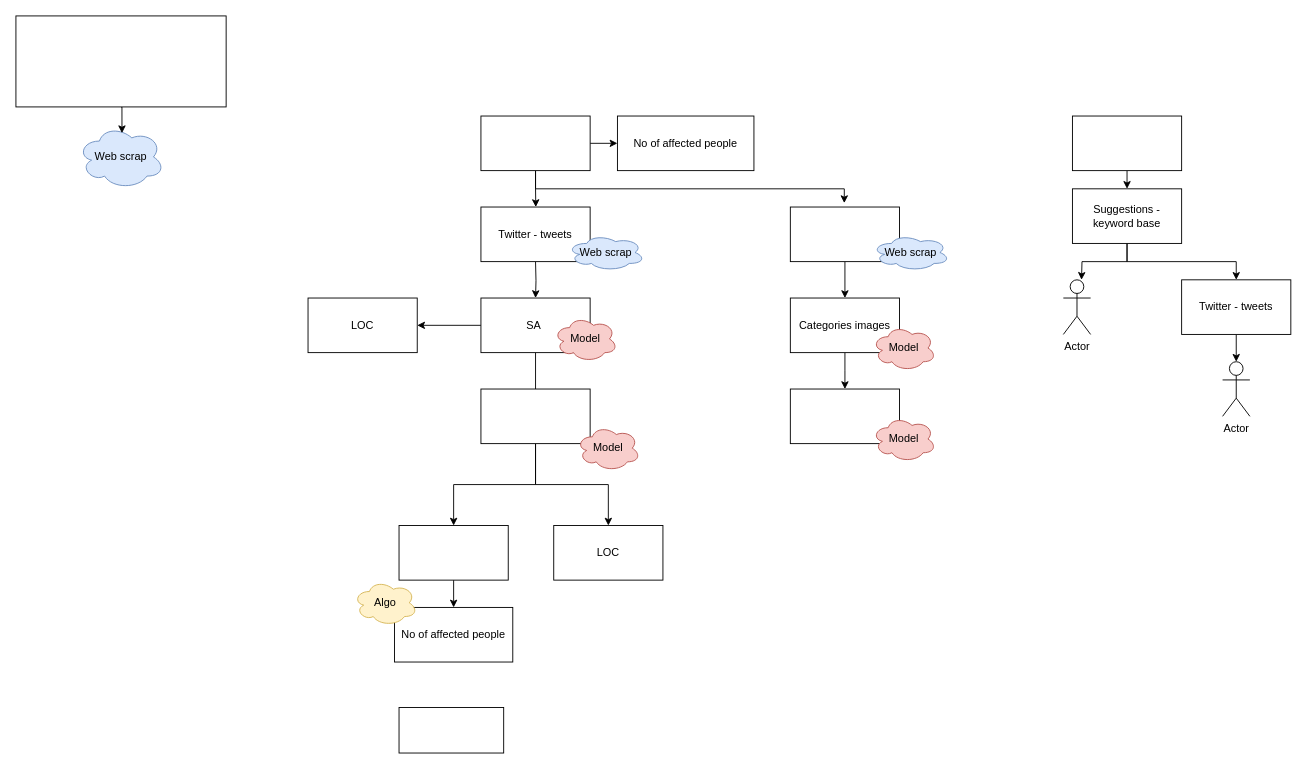
This 1307x769 diagram has some shape labels left out. The shapes that lost their labels are listed below. From the top down, each one's centre as x and y in pixels, then its label:
the point at 120,61: Pre defined keyword - latest Trending - keyword - scrape Keyword - near you
the point at 535,143: Area of High Impact
the point at 1127,143: What help can we provide
the point at 844,234: Images/Videos
the point at 535,416: Keyword scan
the point at 844,416: Person Detection
the point at 453,552: IMP Tweets/ Display
the point at 451,730: Building Detection + Tweets
